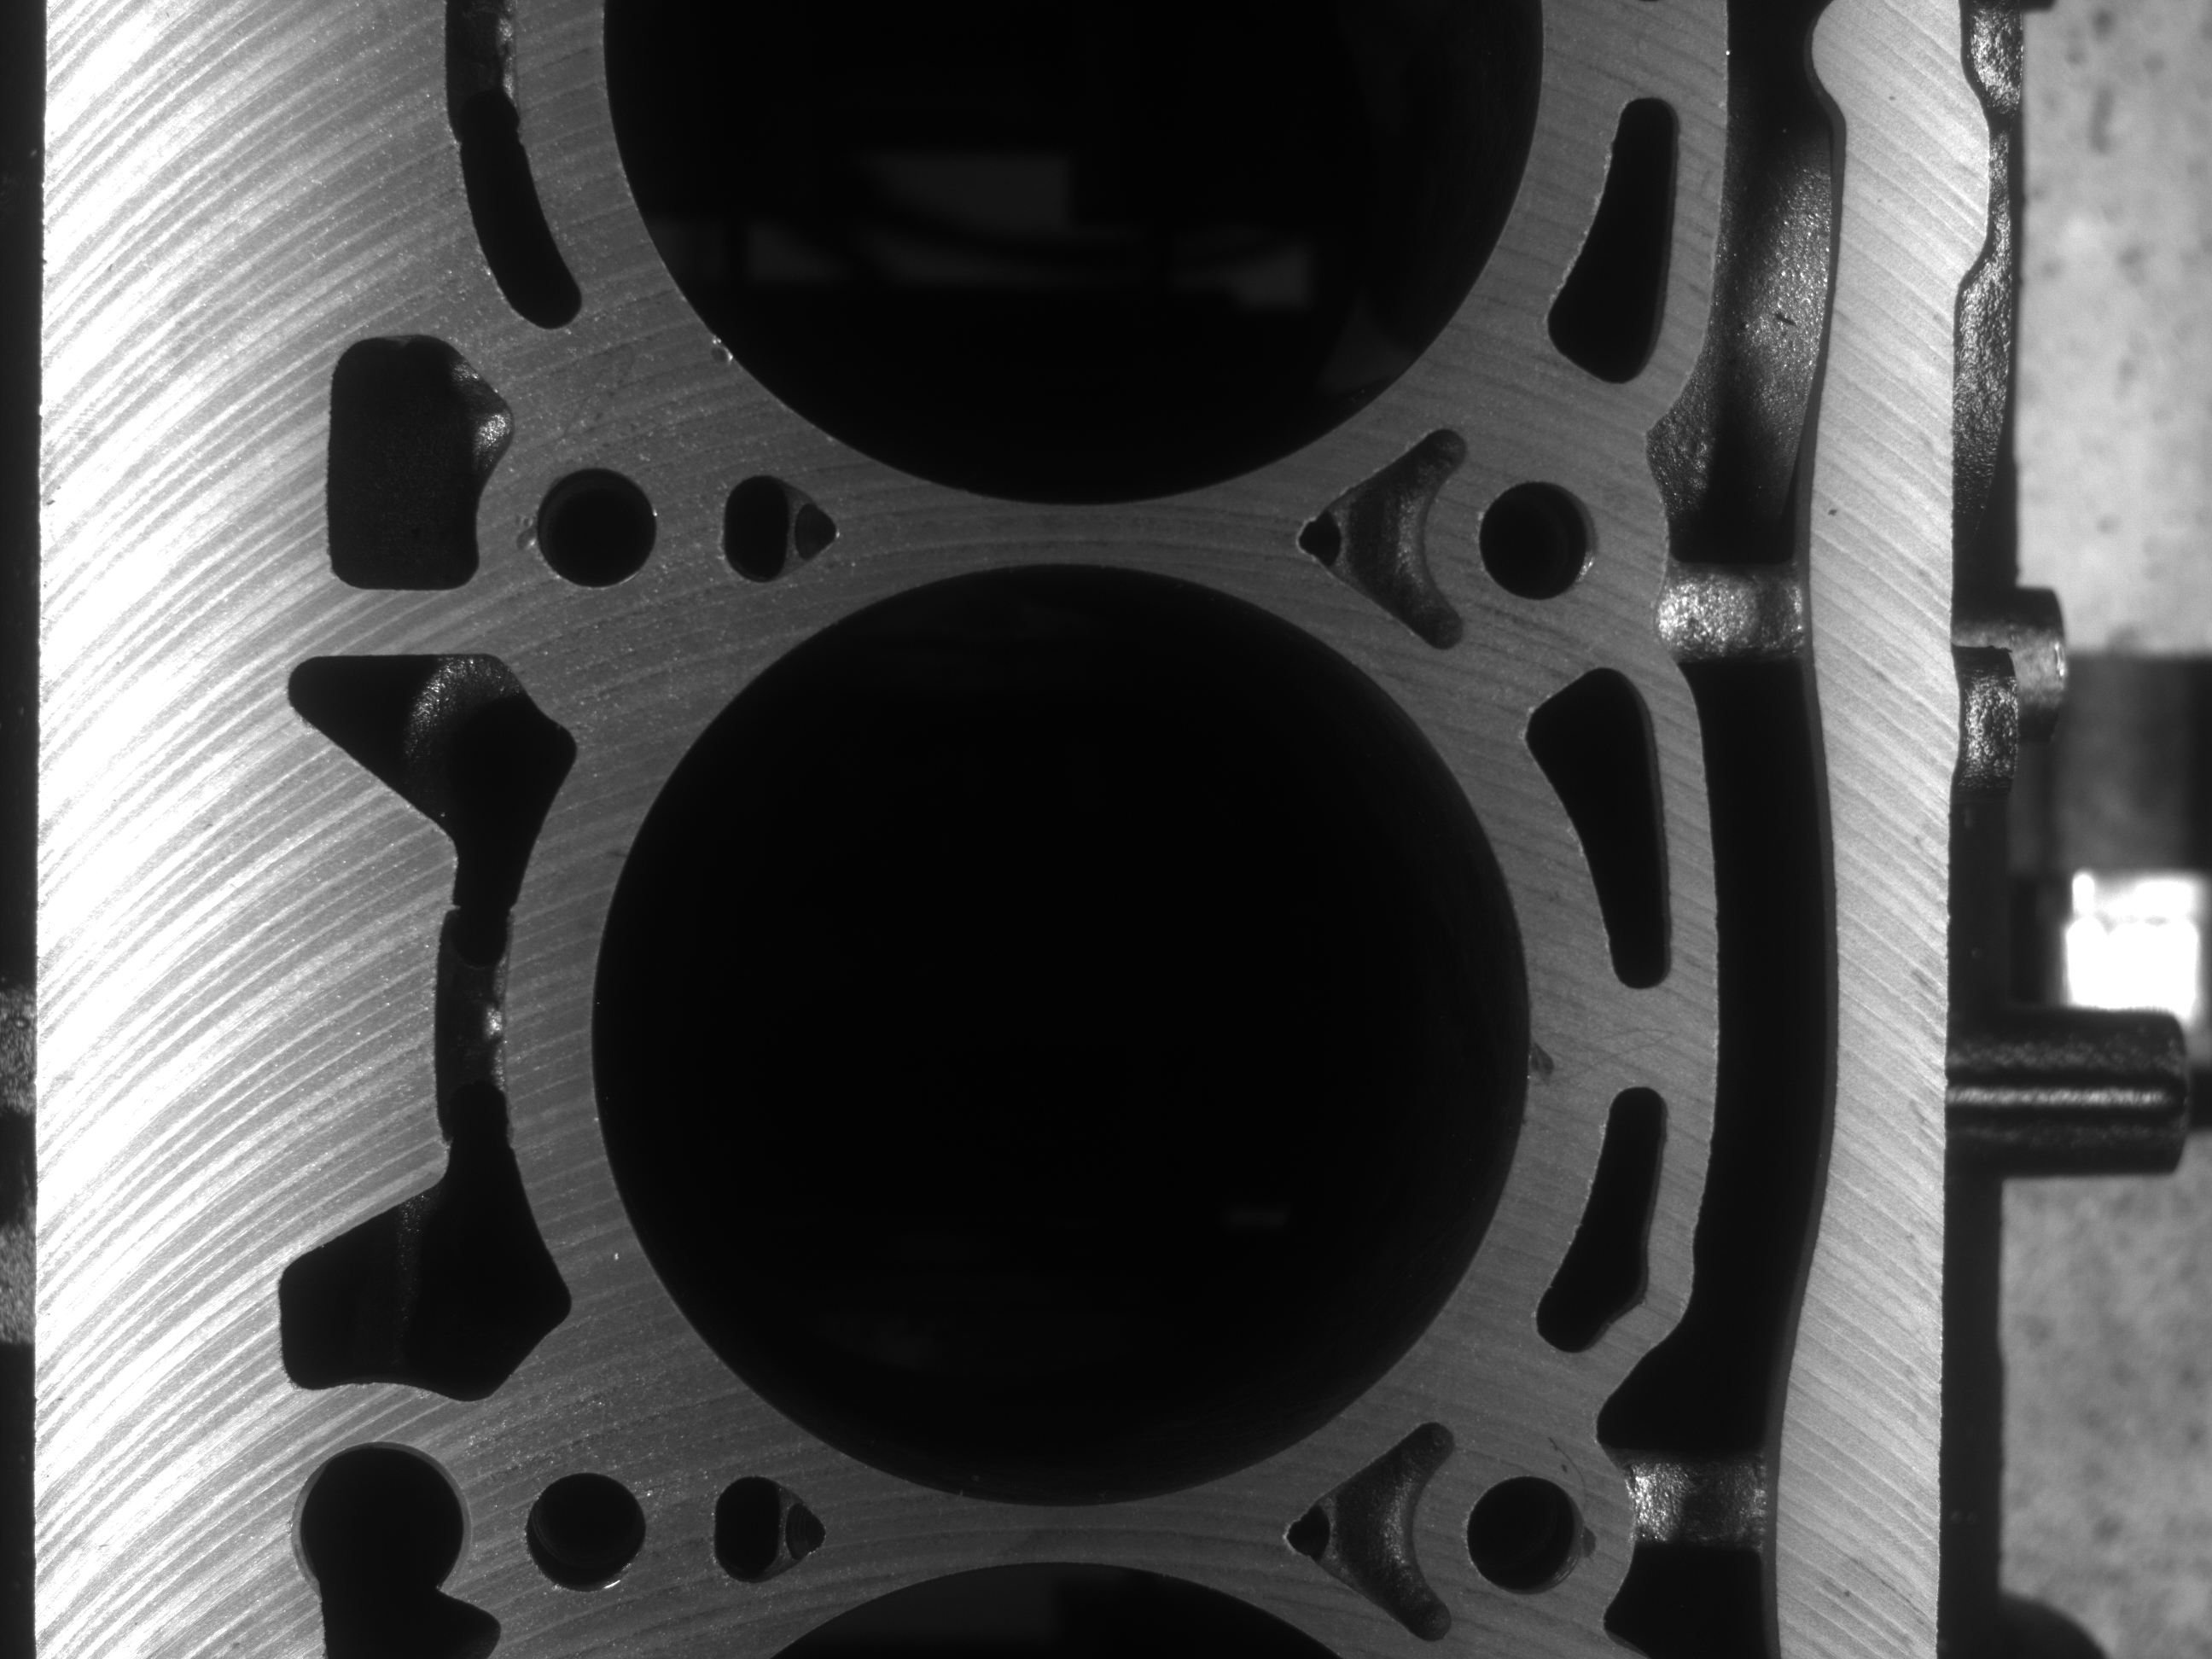sandhole: (1522, 1028, 1559, 1093)
shrinkage: (700, 329, 733, 371), (516, 525, 543, 563)
